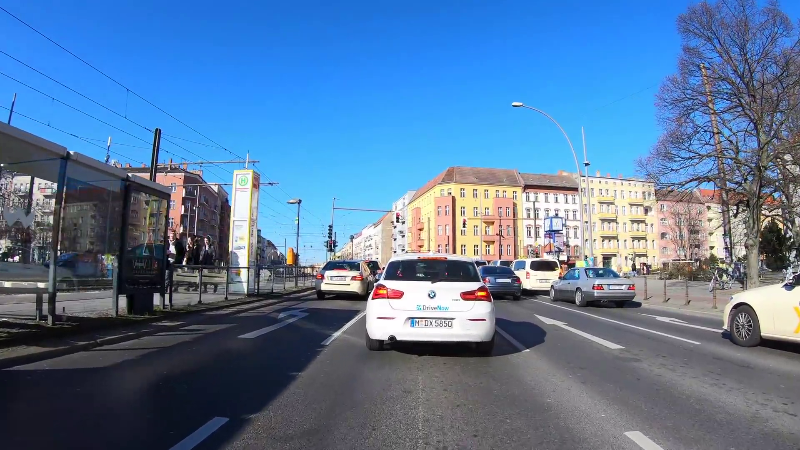Plate: (407, 315, 457, 330), (328, 274, 348, 282), (607, 282, 625, 290), (494, 276, 512, 283), (537, 278, 554, 283)
